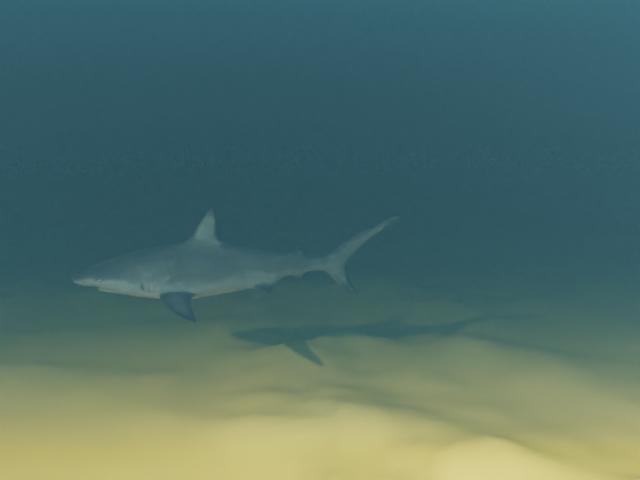Carribean Shark.001: (71, 208, 400, 323)
